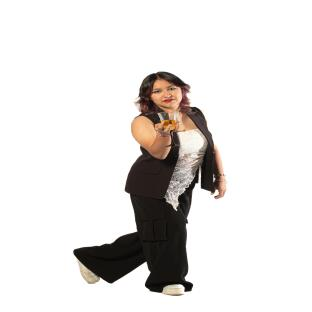Human: (73, 72, 226, 295)
